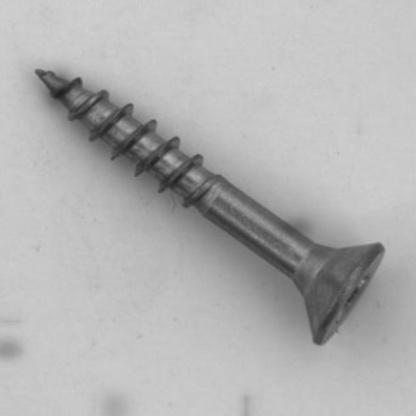metal: (34, 67, 385, 345)
